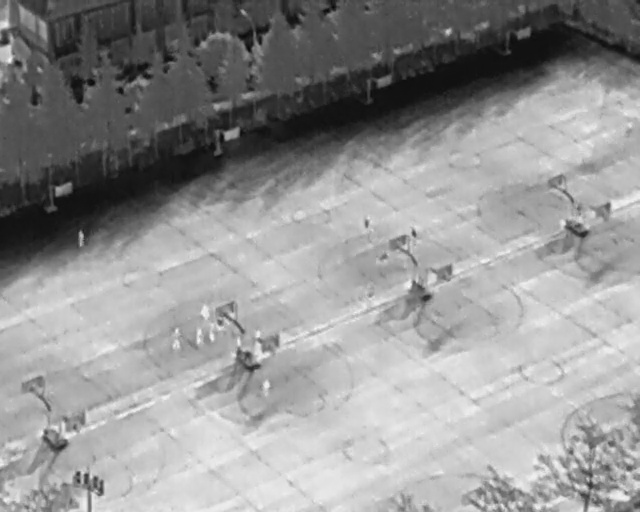Person: (252, 327, 263, 355), (169, 328, 182, 350), (260, 378, 273, 397), (198, 304, 211, 321), (76, 229, 86, 249), (214, 314, 226, 330), (194, 328, 204, 347), (409, 224, 420, 241), (233, 336, 243, 354), (207, 327, 217, 343), (376, 250, 390, 261), (363, 214, 372, 230), (626, 119, 635, 134)
